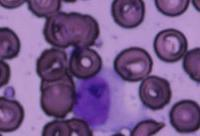L: (72, 67, 127, 133)
